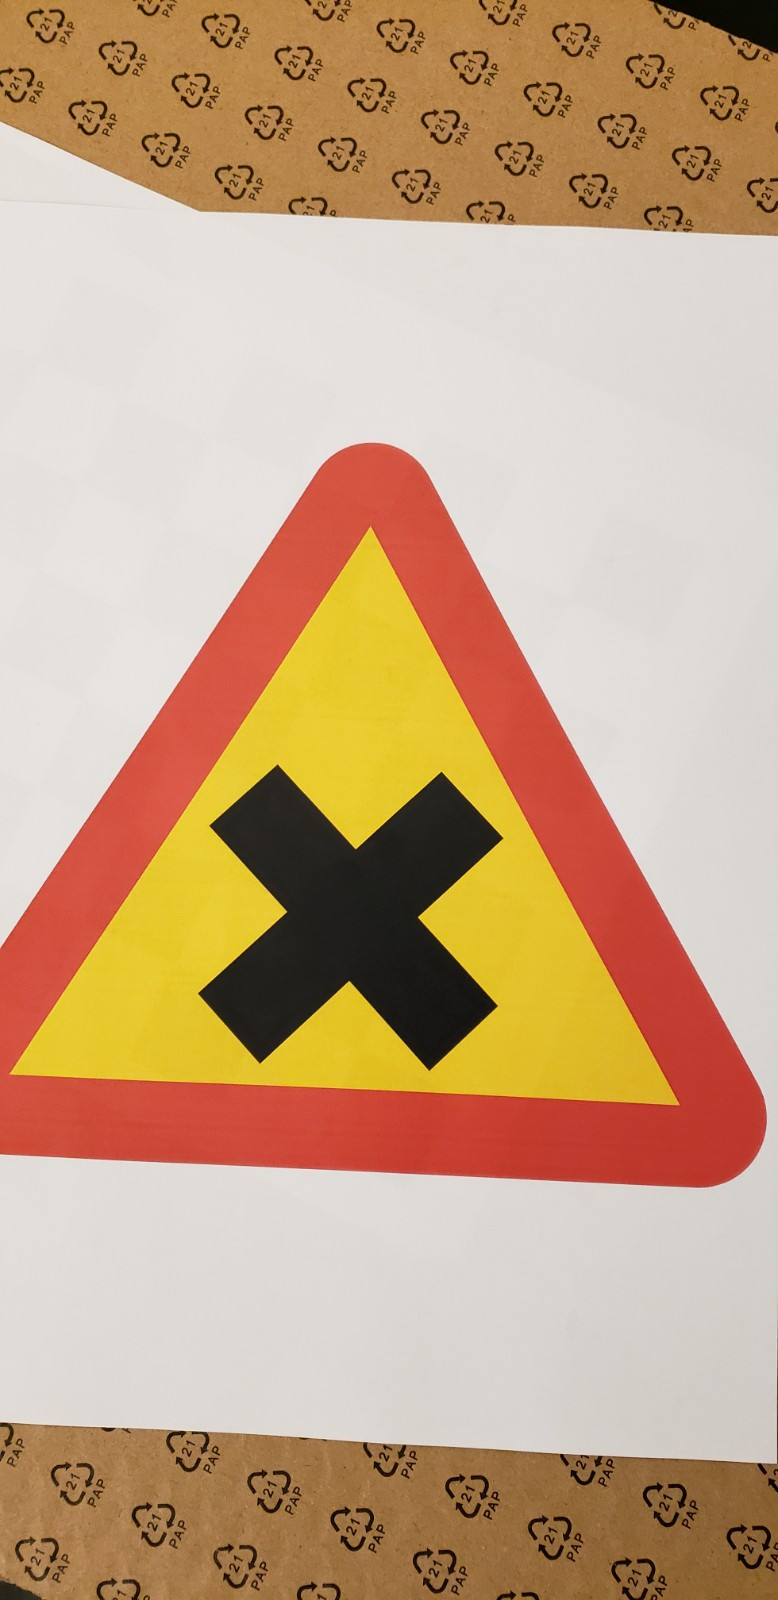junction: (6, 424, 778, 1183)
